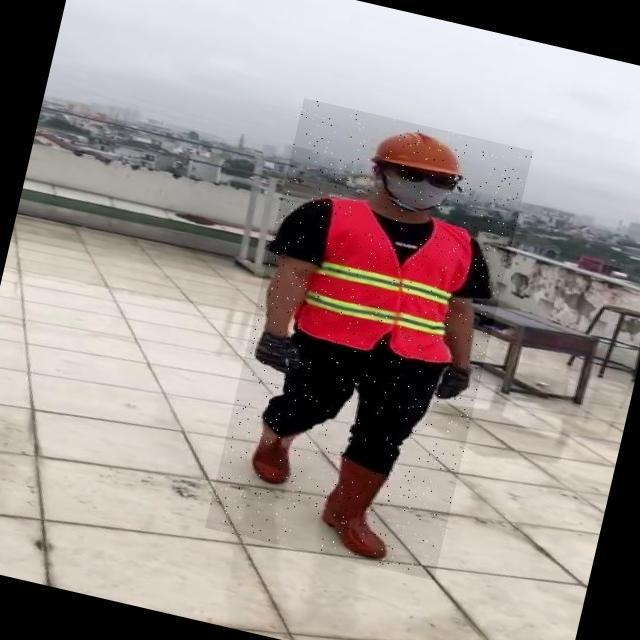Gloves: (251, 330, 310, 377), (430, 362, 477, 405)
Helmet: (370, 118, 465, 180)
Human: (205, 98, 533, 581)
Safety Boot: (314, 452, 407, 561), (245, 418, 304, 489)
Safety Vest: (285, 192, 480, 368)
